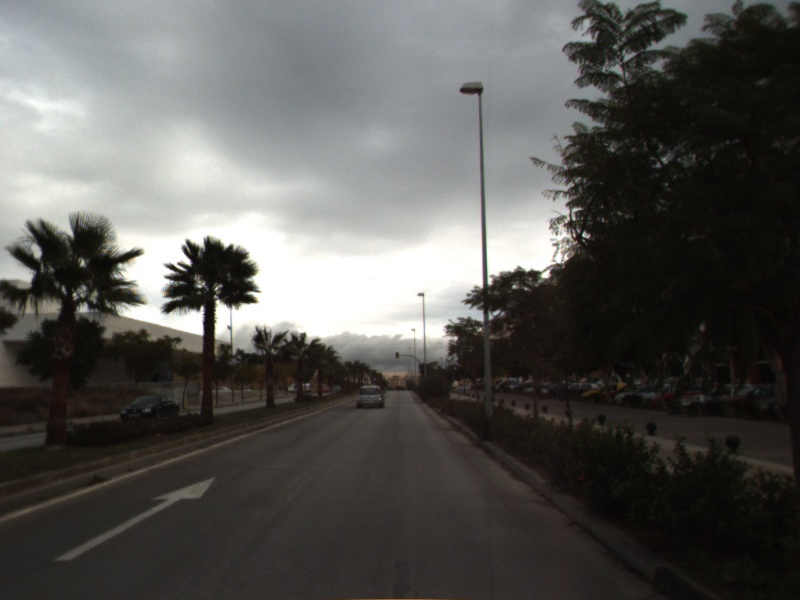STRAIGHT: (53, 474, 219, 563)
